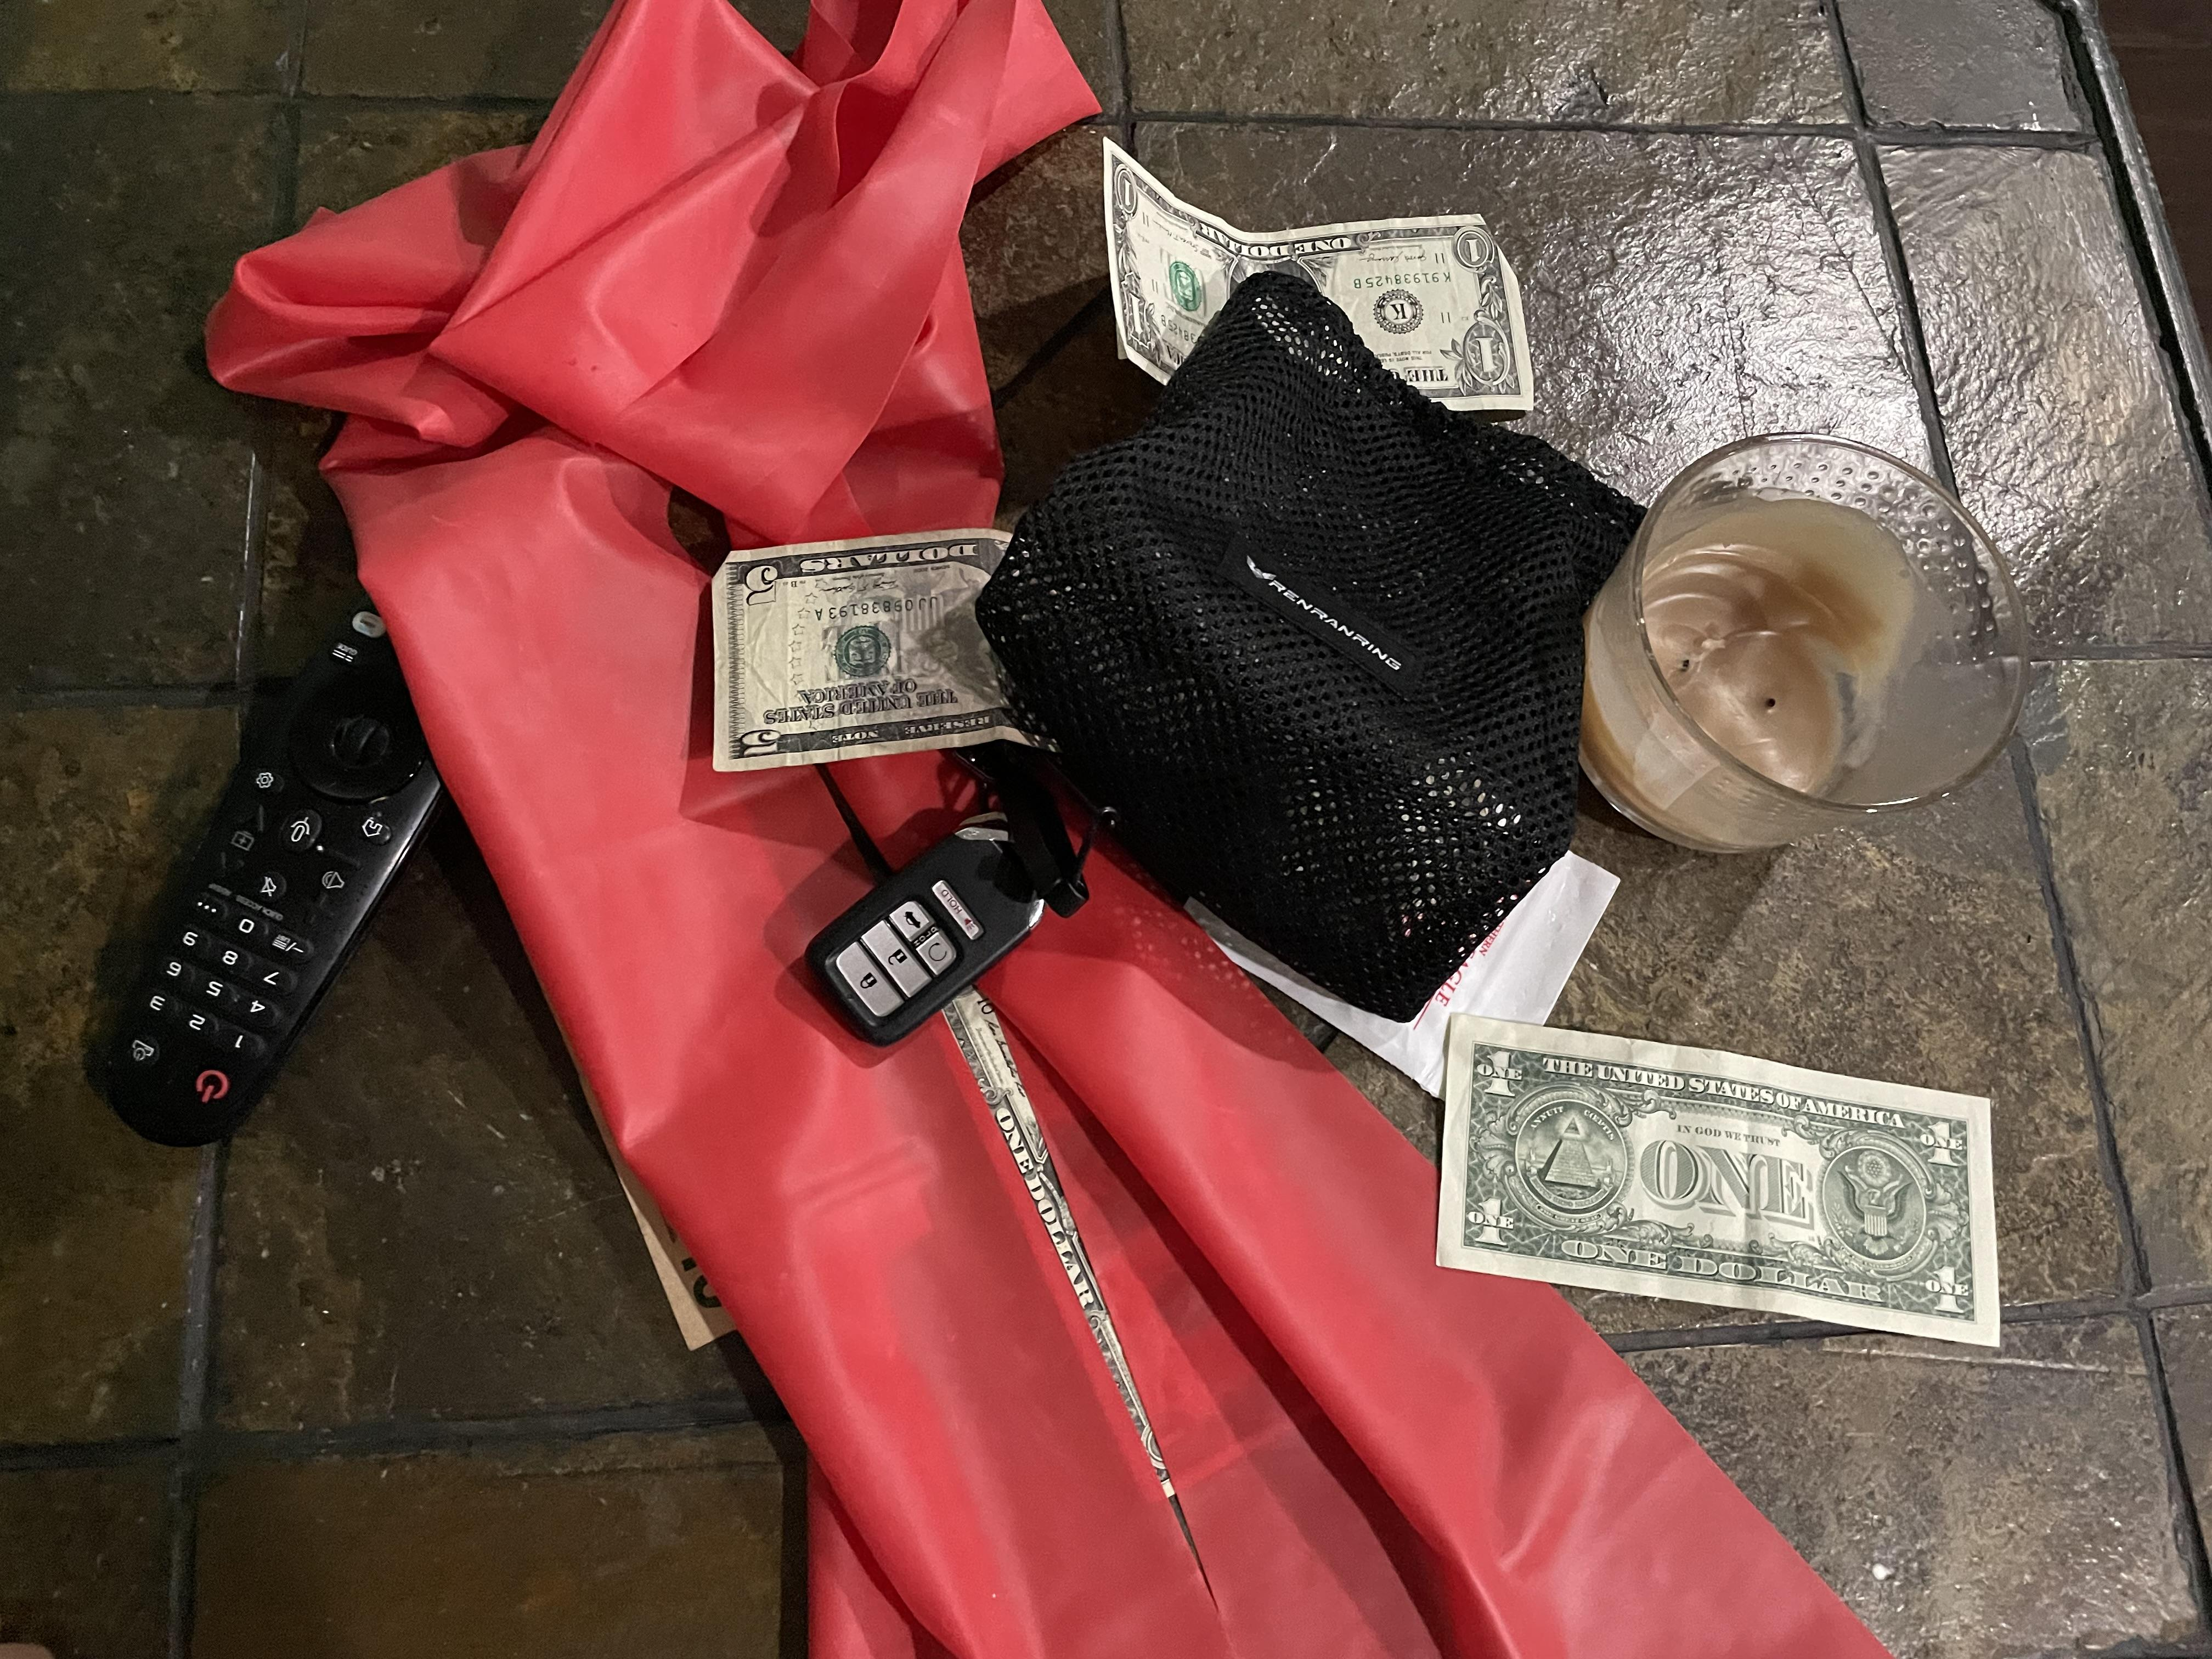FiveBill: (697, 509, 1108, 779)
OneBill: (1432, 1006, 2017, 1364), (1085, 124, 1554, 422)
